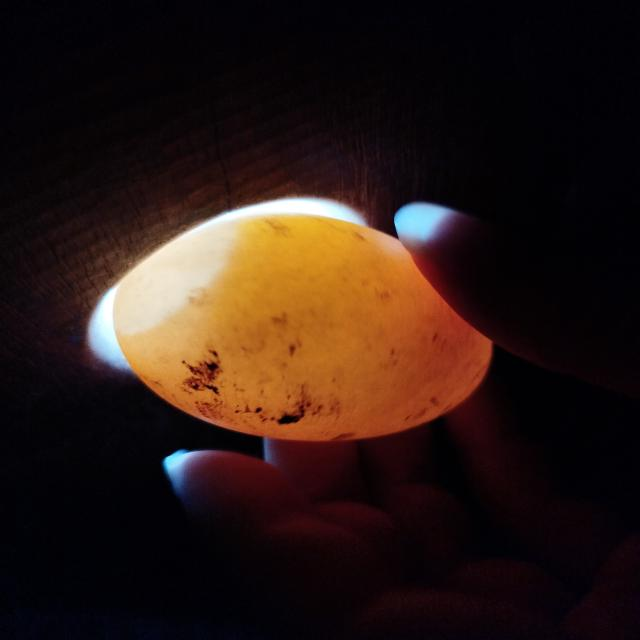Camara de Ar: (112, 224, 233, 335)
